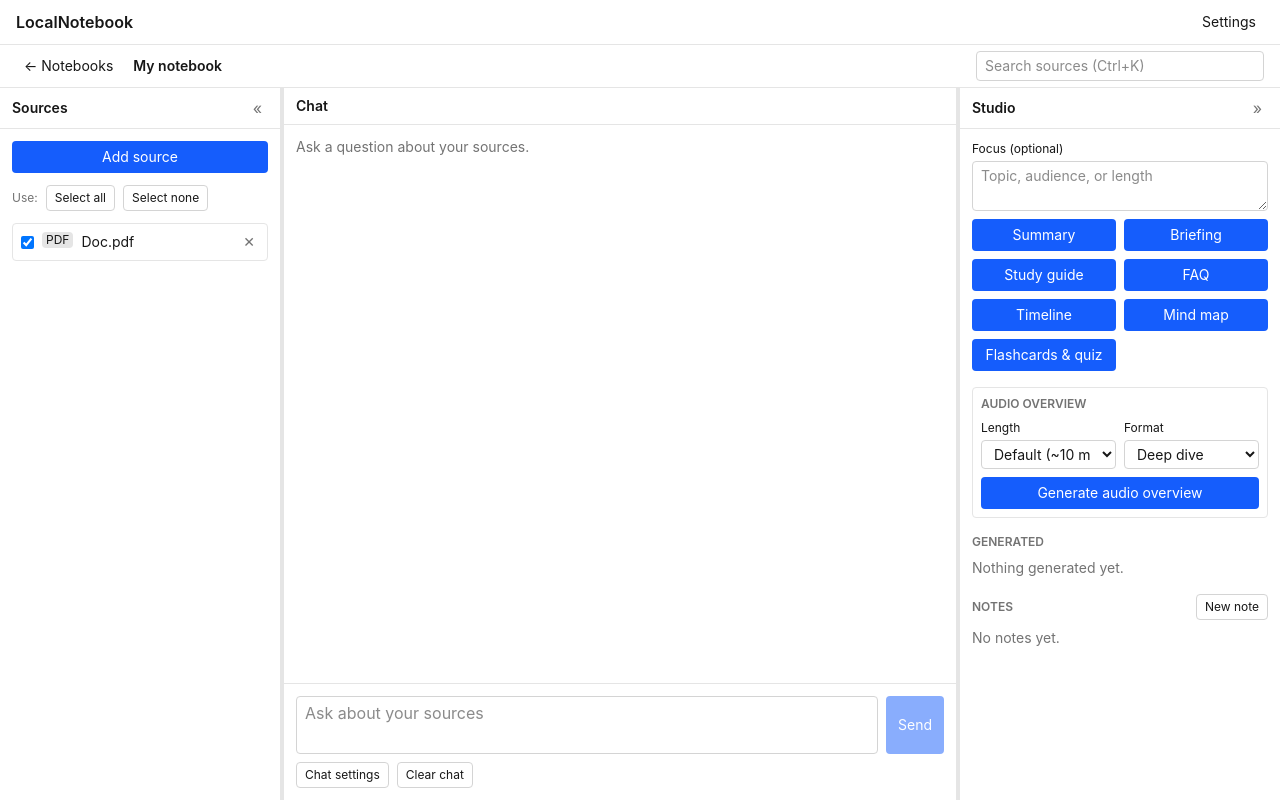
Test: creates a note, edits it with a live preview, and saves automatically
Click the button "New note" at (1232, 607), box [1196,594,1268,620]
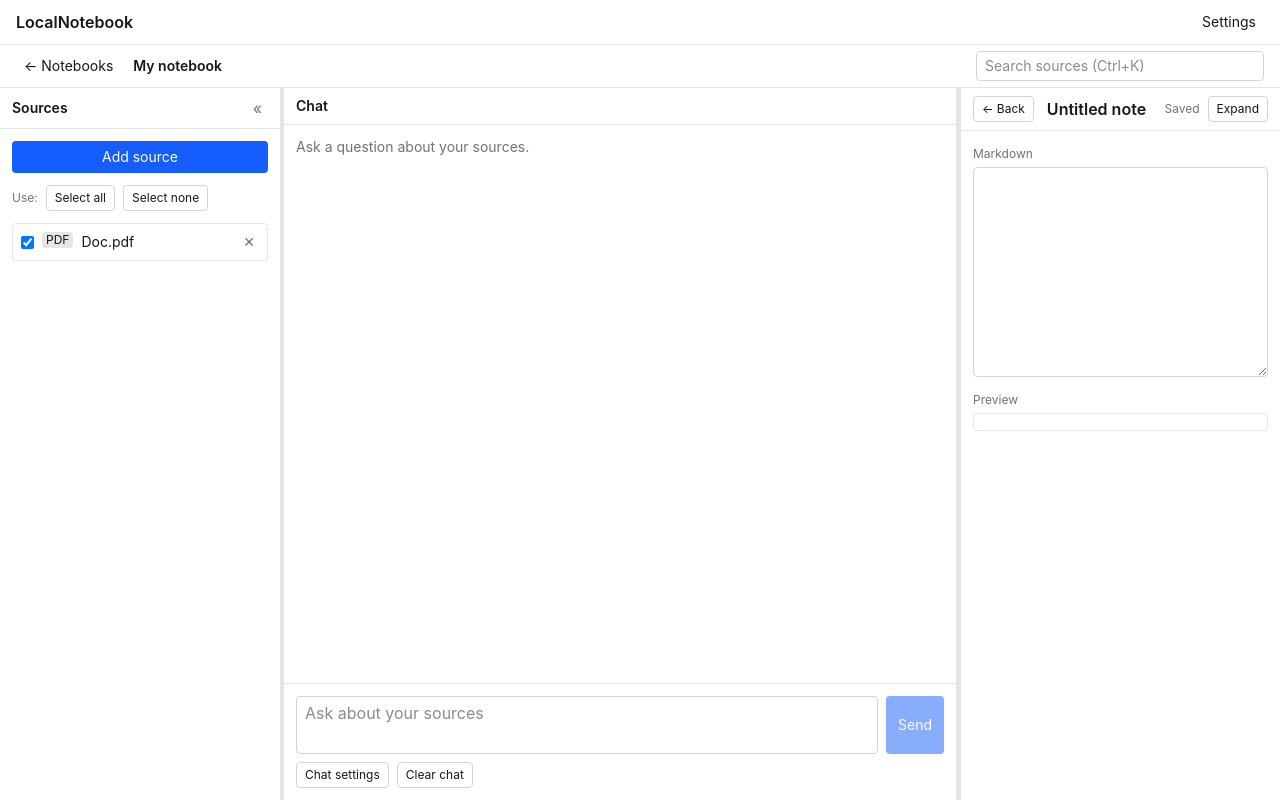
Type "Hello **bold**" into the text box named "Note content" at (1120, 272), box [973,167,1268,377]
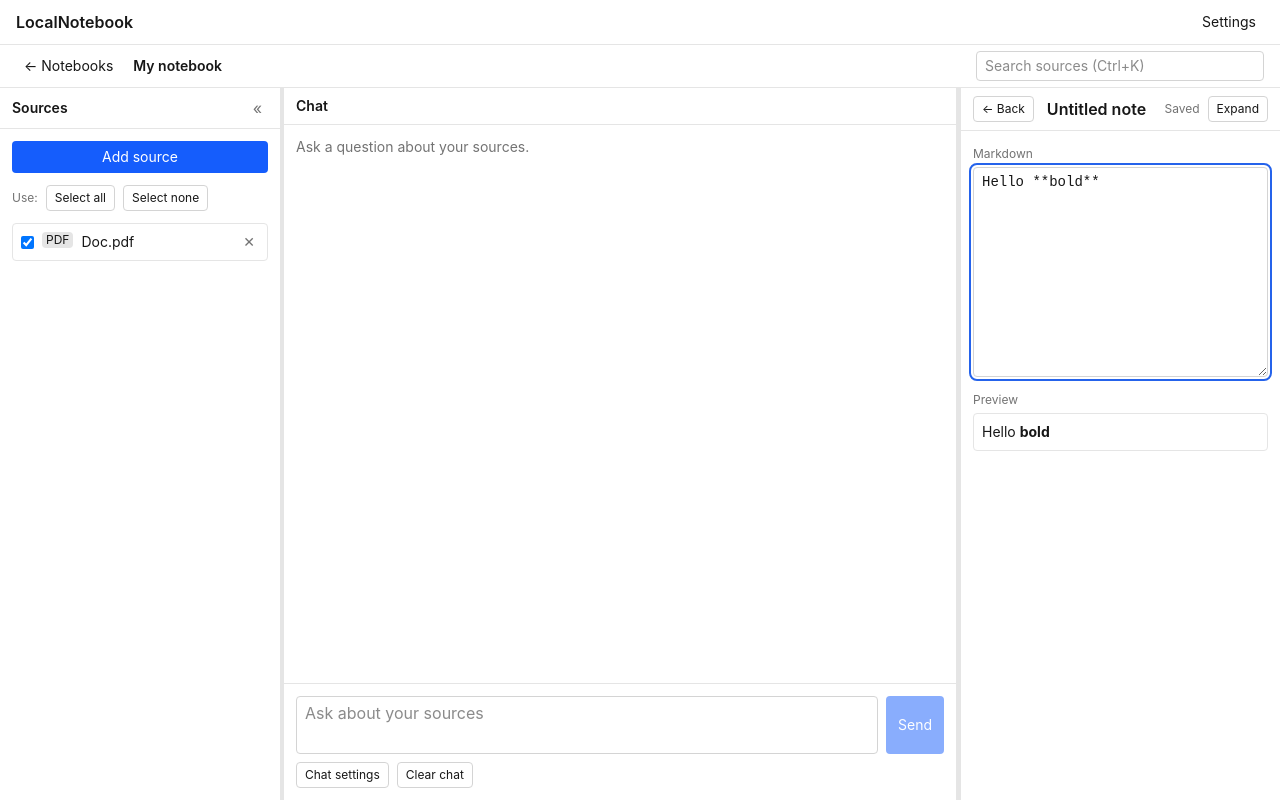
Check: the text "Saved" is shown, box [1164,101,1200,117]
Check: the text "bold" is shown, box [1020,423,1050,440]
